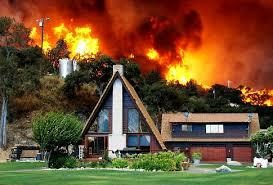fire: (145, 35, 214, 87), (27, 18, 100, 60), (239, 80, 273, 107)
